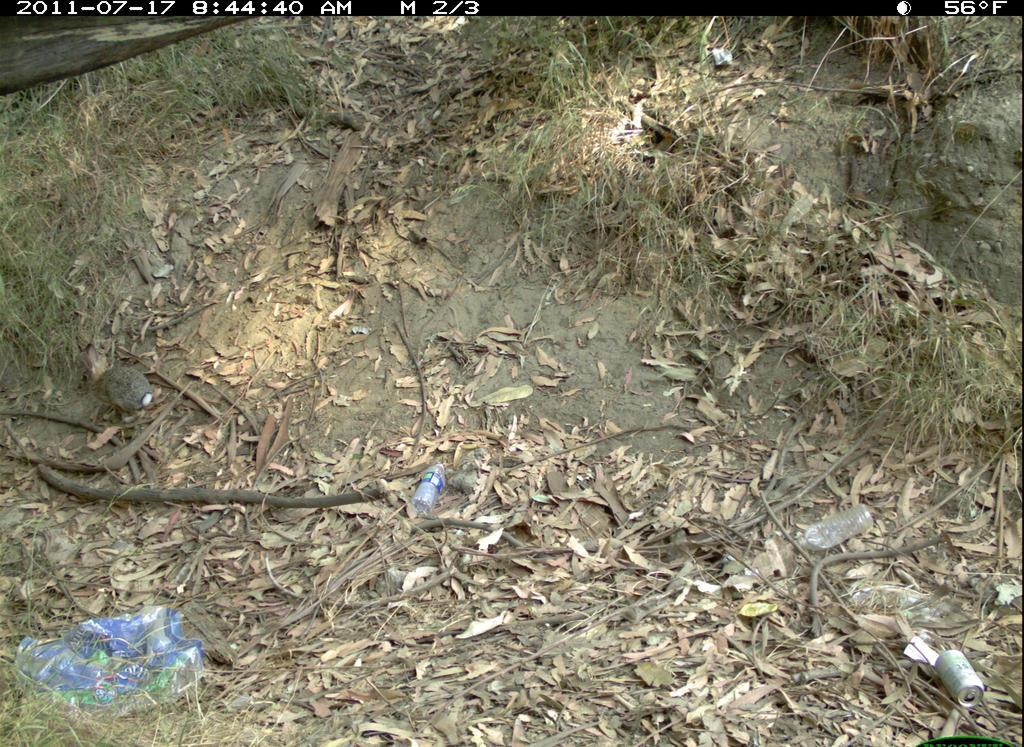rabbit: (77, 338, 157, 425)
